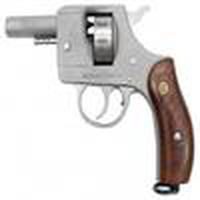gun: (3, 3, 196, 200)
